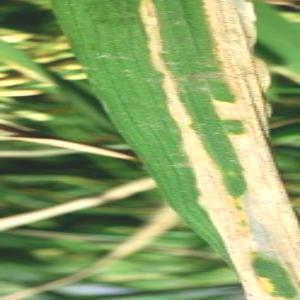2 BacterialBlight: (135, 1, 273, 247)
